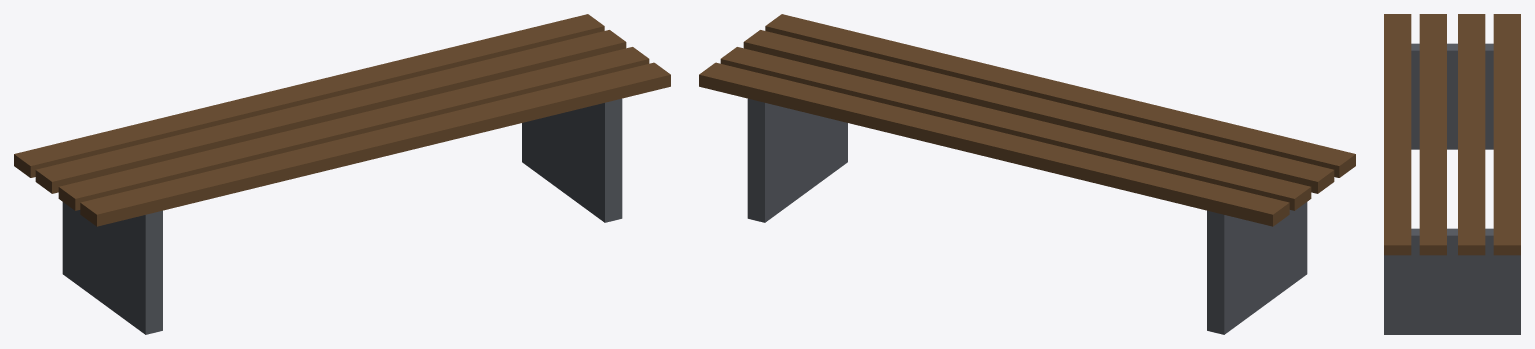
Rendered from bench.glb.
3 views of the same model, side by side, from view 1: azimuth 30°, elevation 25°; view 2: azimuth 150°, elevation 25°; view 3: azimuth 270°, elevation 25° (orthographic). The views are drawn at different scales.
Visible parts, largest first — view 1: bench; view 2: bench; view 3: bench.
Part boxes in pixels (x1,y1,x2,y2): bench: [14, 14, 670, 334]; bench: [699, 14, 1355, 334]; bench: [1384, 14, 1520, 334].
Bounding box in the file's own units: 2 × 0.44 × 0.5.
